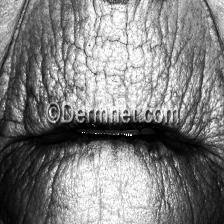Benign Marking or Mole: (56, 30, 111, 87)
